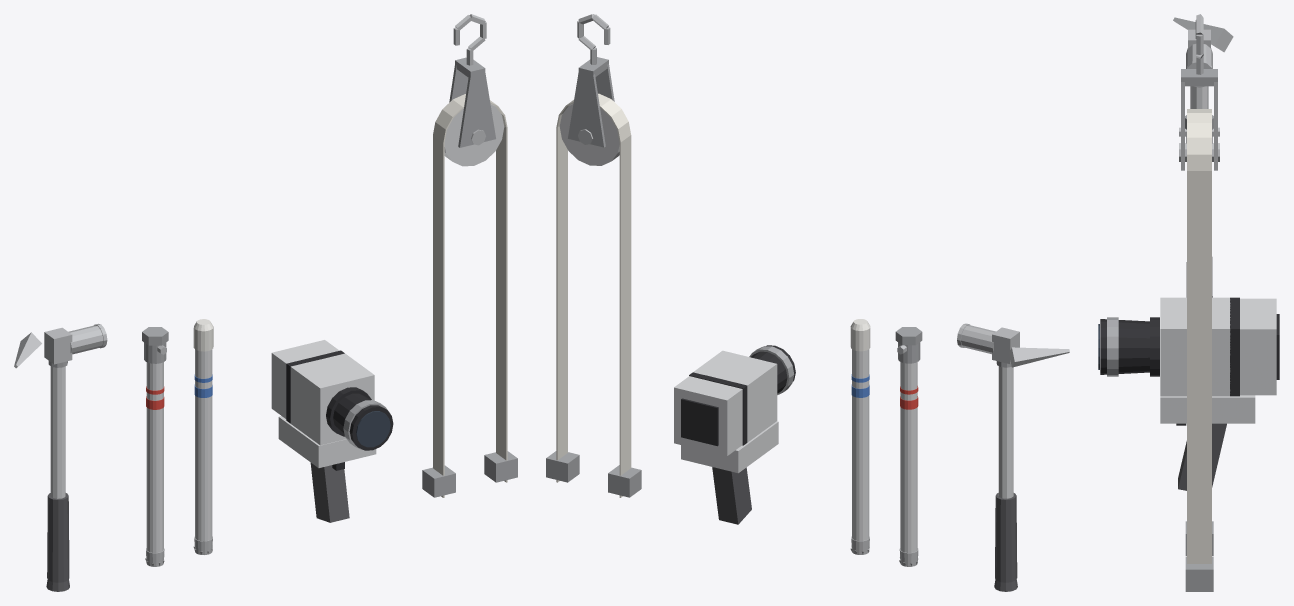
File: eva-tools.glb
The picture shows the model from 3 angles, left to right: view 1: azimuth 30°, elevation 25°; view 2: azimuth 150°, elevation 25°; view 3: azimuth 270°, elevation 25°; orthographic projection. The views are drawn at different scales.
Parts seen in each view (by area): view 1: lec-pulley-geo, hasselblad-geo, geo-hammer-geo, core-tube-1-geo, core-tube-2-geo; view 2: lec-pulley-geo, hasselblad-geo, geo-hammer-geo, core-tube-1-geo, core-tube-2-geo; view 3: hasselblad-geo, lec-pulley-geo, geo-hammer-geo.
Part boxes in pixels (<box>): lec-pulley-geo: <box>422,14,517,497</box>; hasselblad-geo: <box>271,340,393,522</box>; geo-hammer-geo: <box>14,323,107,591</box>; core-tube-1-geo: <box>142,327,168,566</box>; core-tube-2-geo: <box>193,319,213,554</box>; lec-pulley-geo: <box>546,14,641,497</box>; hasselblad-geo: <box>674,345,795,524</box>; geo-hammer-geo: <box>957,323,1069,591</box>; core-tube-1-geo: <box>895,327,922,566</box>; core-tube-2-geo: <box>850,319,870,554</box>; hasselblad-geo: <box>1098,297,1279,490</box>; lec-pulley-geo: <box>1179,14,1219,591</box>; geo-hammer-geo: <box>1173,17,1233,297</box>.
Size of the model in its own units: 0.8382 by 0.7441 by 0.2195.
